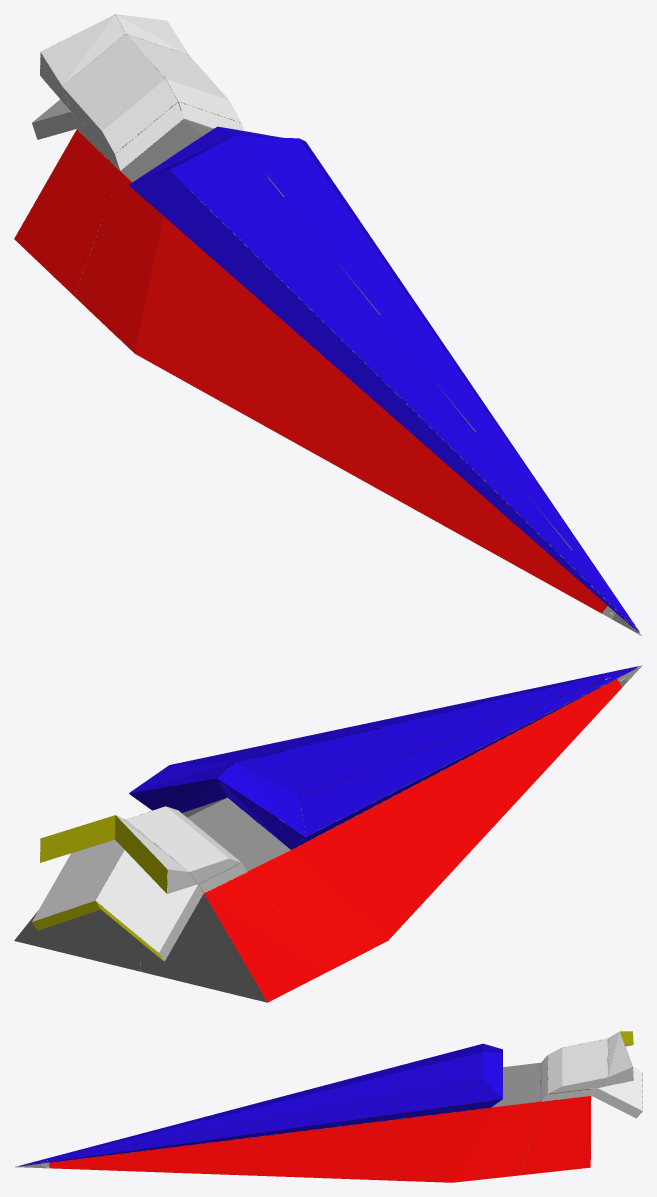
File: carA.obj
3 renders of one model, top to bottom at view 1: azimuth 30°, elevation 25°; view 2: azimuth 150°, elevation 25°; view 3: azimuth 270°, elevation 25°, orthographic. The views are drawn at different scales.
Visible parts, largest first — view 1: Cube.001_Cube.000; view 2: Cube.001_Cube.000; view 3: Cube.001_Cube.000.
Boxes of the visible parts, <box> form: Cube.001_Cube.000: <box>14,14,641,635</box>; Cube.001_Cube.000: <box>14,665,642,1002</box>; Cube.001_Cube.000: <box>15,1031,642,1182</box>.
Bounding box in the file's own units: 2.75 × 2.45 × 10.27.
